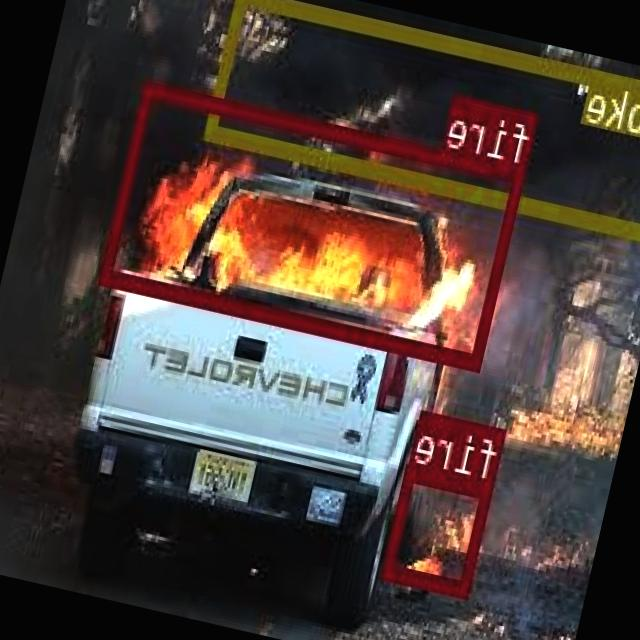fire: (101, 80, 528, 370), (384, 462, 496, 596)
smoke: (205, 0, 640, 243)
